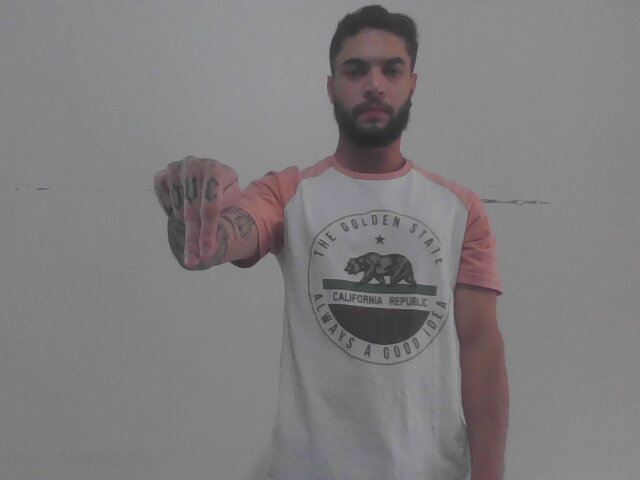n: (149, 146, 244, 267)
